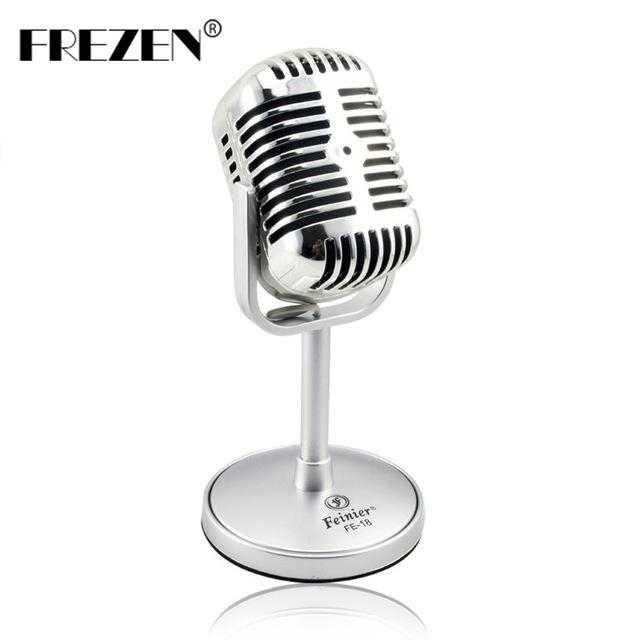microphone: (211, 48, 418, 324)
